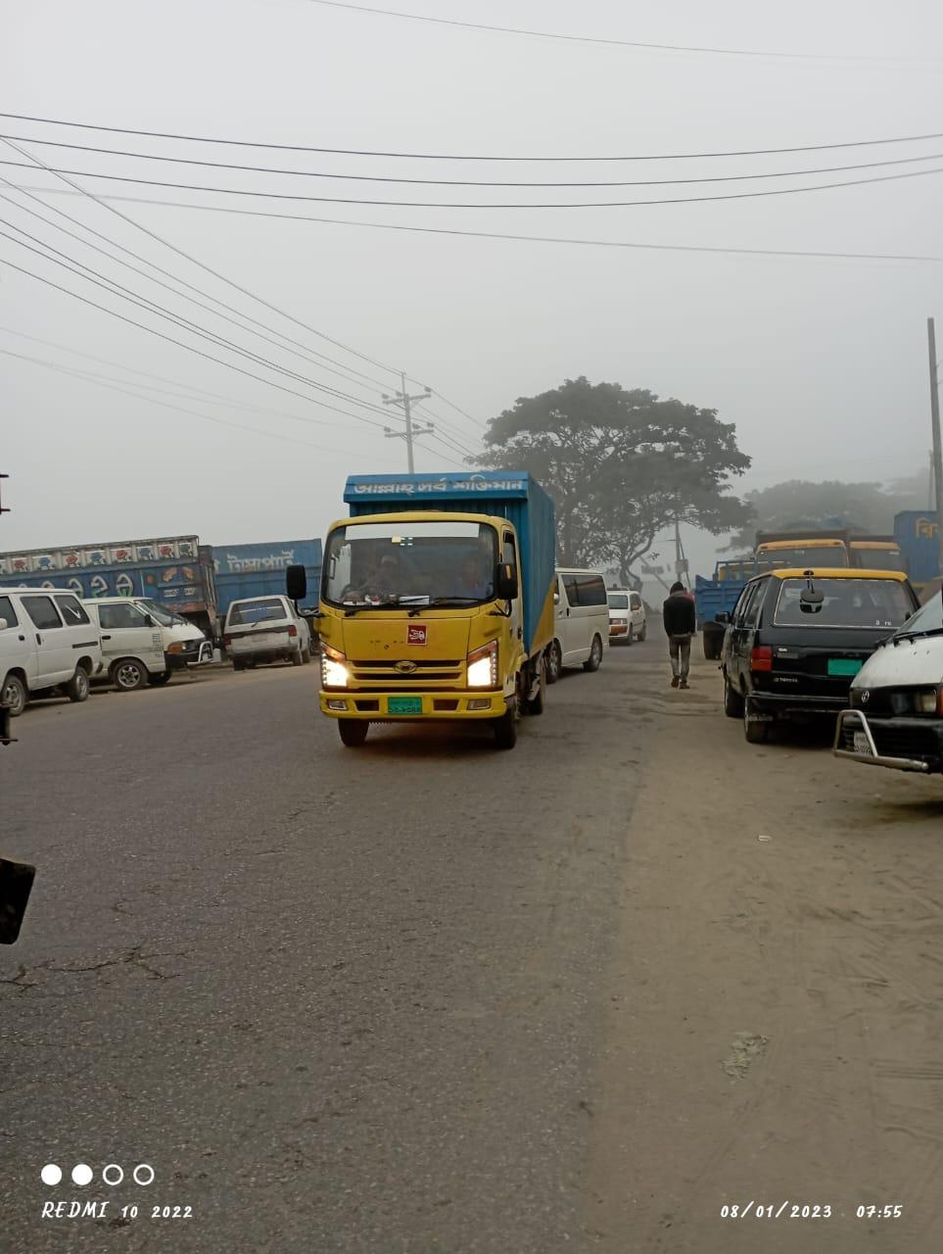Car: (719, 565, 887, 751), (82, 589, 216, 700), (2, 585, 99, 716), (548, 554, 611, 673), (229, 595, 300, 667), (603, 584, 648, 644)
Truck: (290, 470, 556, 751)
